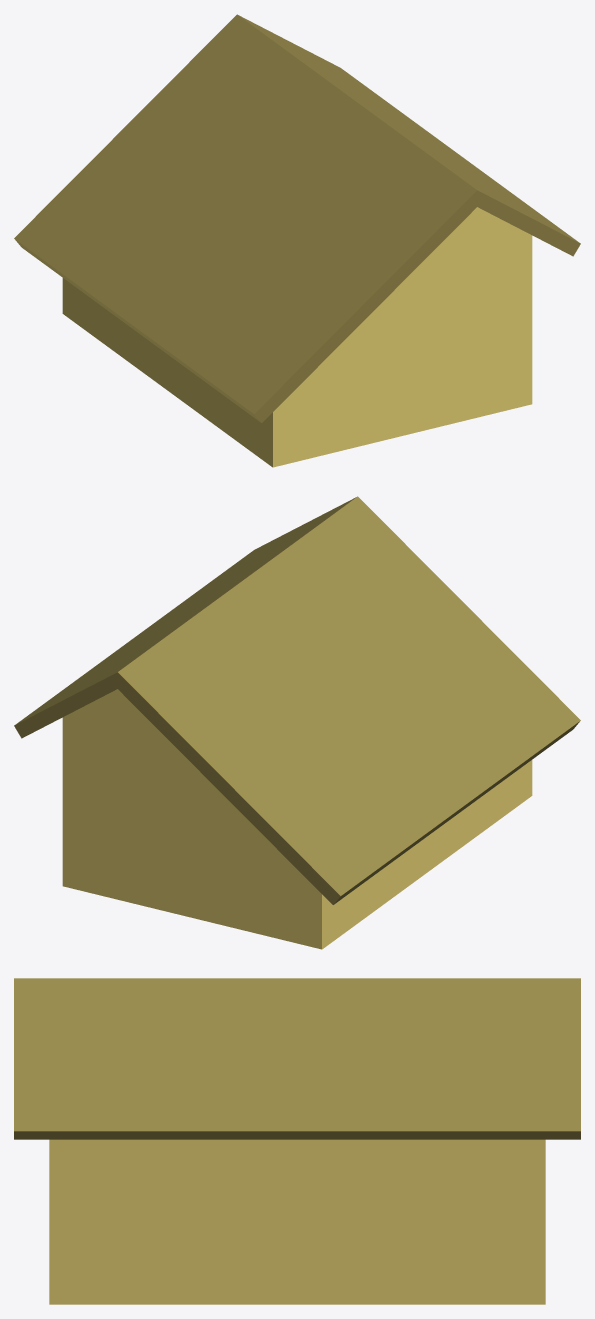
File: result.glb
3 renders of one model, top to bottom at view 1: azimuth 30°, elevation 25°; view 2: azimuth 150°, elevation 25°; view 3: azimuth 270°, elevation 25°, orthographic. The views are drawn at different scales.
Parts seen in each view (by area): view 1: b6359f0d-4b27-489e-828a-e49146e39440__undefined (×2), cf6bc3f6-aab6-4e98-b713-e1e0fdec96b1__undefined; view 2: b6359f0d-4b27-489e-828a-e49146e39440__undefined (×2), cf6bc3f6-aab6-4e98-b713-e1e0fdec96b1__undefined; view 3: b6359f0d-4b27-489e-828a-e49146e39440__undefined, cf6bc3f6-aab6-4e98-b713-e1e0fdec96b1__undefined.
Part boxes in pixels (x1,y1,x2,y2): b6359f0d-4b27-489e-828a-e49146e39440__undefined (×2): (14, 14, 580, 422); cf6bc3f6-aab6-4e98-b713-e1e0fdec96b1__undefined: (62, 207, 532, 467); b6359f0d-4b27-489e-828a-e49146e39440__undefined (×2): (14, 496, 580, 904); cf6bc3f6-aab6-4e98-b713-e1e0fdec96b1__undefined: (62, 689, 532, 949); b6359f0d-4b27-489e-828a-e49146e39440__undefined: (14, 978, 580, 1139); cf6bc3f6-aab6-4e98-b713-e1e0fdec96b1__undefined: (49, 1139, 545, 1304).
Bounding box in the file's own units: 628 × 445 × 800.
